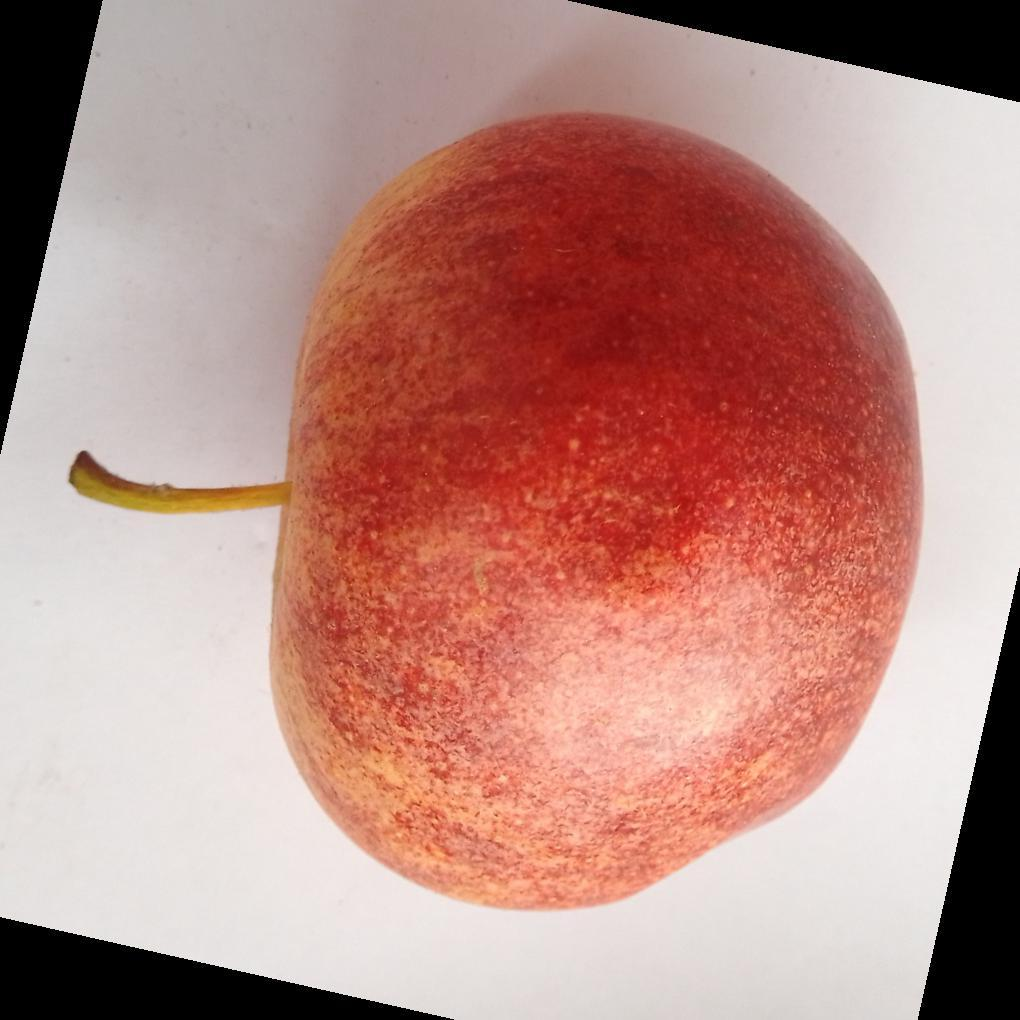FreshGuava: (267, 111, 925, 918)
